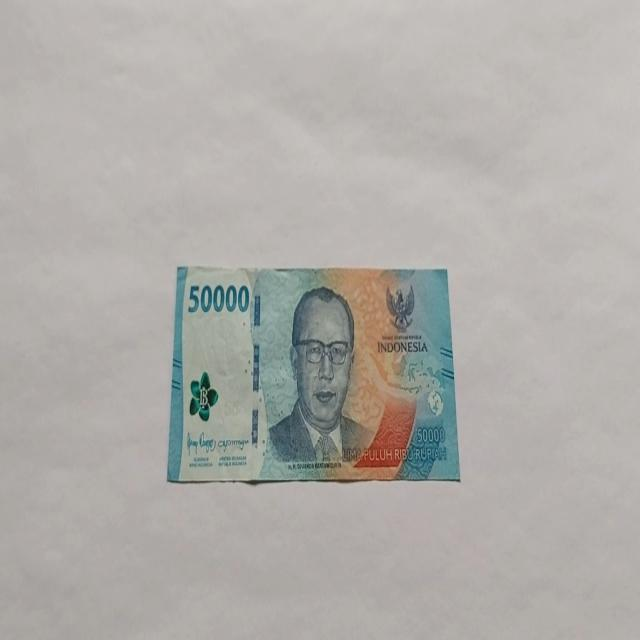lima puluh ribu rupiah: (167, 263, 460, 485), (260, 284, 375, 476)
